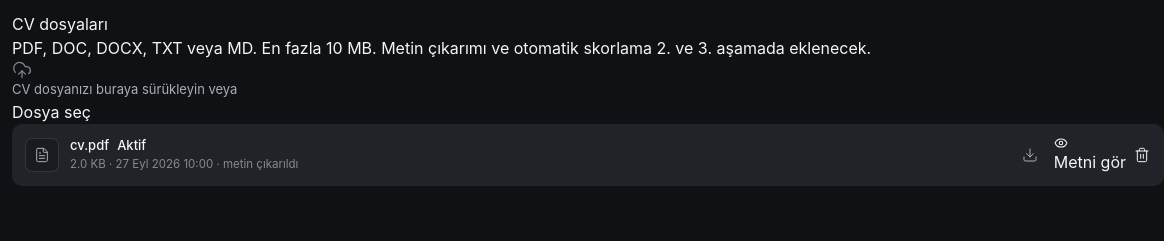
it: CVManager preview › reports a preview error to the user
The image size is (1164, 241).
Click the button "Metni gör" at (1090, 154), box [1054, 136, 1126, 174]
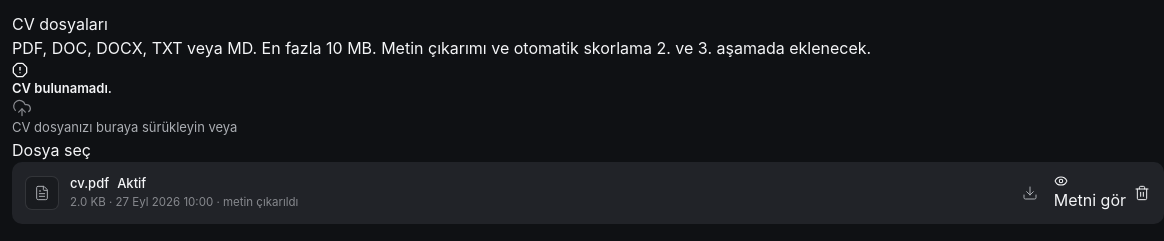
expect the text "CV bulunamadı." is shown: met, box [12, 80, 112, 96]
